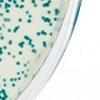Blue_green: (19, 4, 26, 10), (3, 44, 9, 51), (8, 39, 14, 46), (41, 42, 48, 48), (25, 19, 33, 24), (44, 15, 49, 23), (23, 73, 29, 79), (11, 54, 17, 60), (42, 2, 49, 7), (0, 35, 5, 42), (30, 48, 37, 53), (32, 3, 38, 8), (15, 3, 20, 9), (15, 61, 21, 66), (18, 50, 23, 56), (17, 41, 23, 46), (40, 29, 45, 35), (30, 0, 37, 4), (27, 13, 32, 18), (40, 16, 45, 21), (47, 10, 52, 15), (16, 25, 21, 30), (0, 50, 5, 55), (0, 46, 5, 51), (26, 60, 31, 65), (6, 51, 11, 56), (23, 35, 28, 40), (30, 43, 35, 48), (46, 0, 52, 4), (7, 0, 15, 3), (18, 17, 22, 23), (48, 21, 52, 27), (53, 16, 57, 22), (14, 26, 18, 32), (3, 77, 7, 83), (0, 96, 6, 100), (26, 67, 30, 73), (36, 31, 40, 37), (0, 2, 3, 9), (6, 4, 11, 8), (13, 0, 18, 4), (3, 17, 7, 22), (7, 17, 11, 22), (25, 10, 29, 15), (47, 18, 51, 23), (54, 11, 59, 15), (57, 9, 61, 14), (7, 28, 11, 33), (11, 83, 16, 87), (16, 71, 20, 76), (21, 70, 25, 75), (23, 63, 27, 68), (20, 43, 24, 48), (26, 36, 30, 41), (28, 41, 32, 46), (43, 31, 47, 36), (4, 3, 10, 6), (0, 26, 3, 32), (13, 28, 16, 34), (18, 76, 21, 82), (4, 5, 8, 9), (6, 9, 10, 13), (54, 8, 58, 12), (4, 94, 8, 98), (13, 78, 17, 82), (42, 41, 46, 45), (21, 41, 25, 45), (28, 38, 32, 42), (49, 32, 53, 36), (0, 0, 5, 3), (40, 0, 45, 3), (21, 0, 26, 3), (0, 12, 3, 17), (3, 83, 6, 88), (10, 77, 13, 82), (2, 24, 6, 27), (4, 25, 7, 29), (0, 89, 4, 92), (3, 92, 6, 96), (0, 57, 2, 62), (3, 89, 5, 93), (0, 91, 2, 93), (0, 95, 1, 98)
